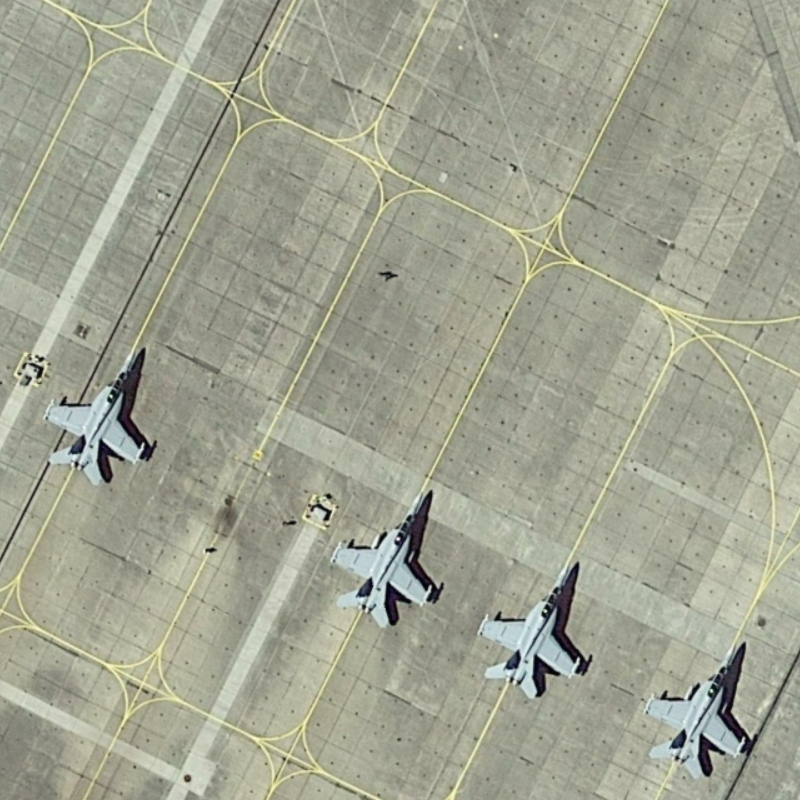A16: (321, 483, 448, 636), (36, 339, 157, 495), (636, 630, 752, 789), (471, 551, 588, 705)
